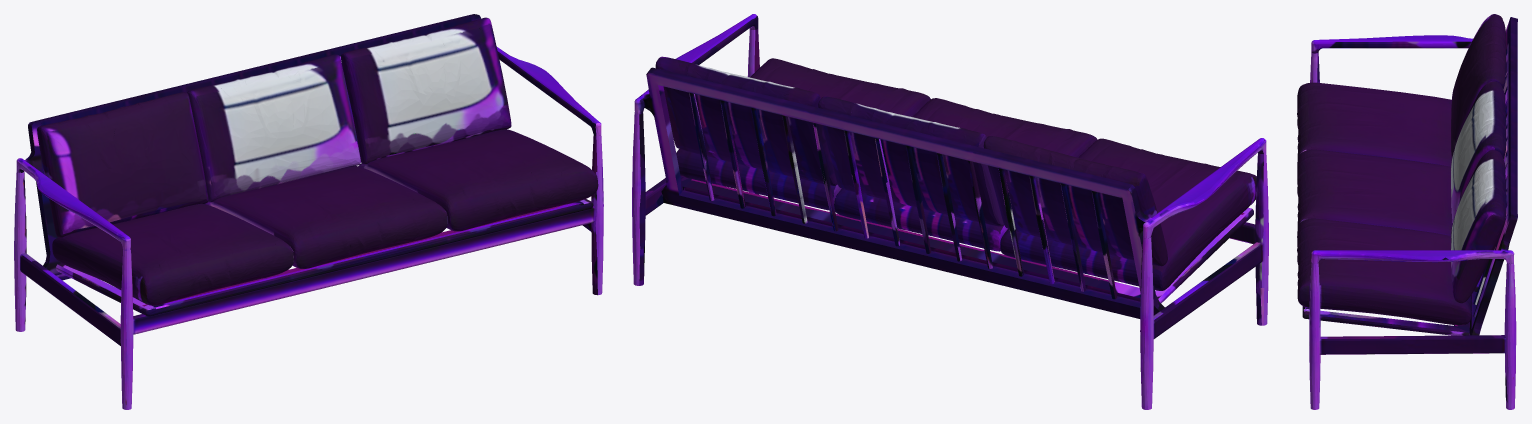
The model's file is edited_mesh.glb.
3 renders of one model, left to right at view 1: azimuth 30°, elevation 25°; view 2: azimuth 150°, elevation 25°; view 3: azimuth 270°, elevation 25°, orthographic. The views are drawn at different scales.
Visible parts, largest first — view 1: solid_001_wire; view 2: solid_001_wire; view 3: solid_001_wire.
Part boxes in pixels (x1,y1,x2,y2): solid_001_wire: (14,14,603,409); solid_001_wire: (632,14,1268,409); solid_001_wire: (1297,14,1517,409).
Bounding box in the file's own units: 2 × 0.7861 × 0.8303.
Materials: 1 (1 with a texture image).
